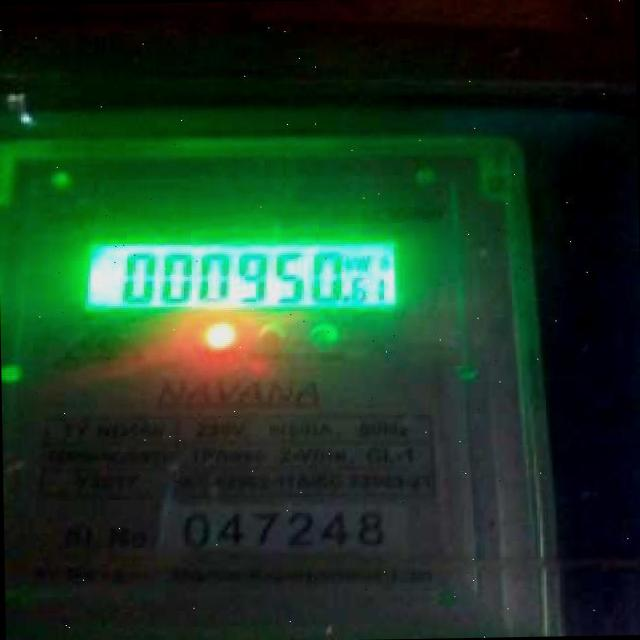LCD: (73, 222, 405, 328)
